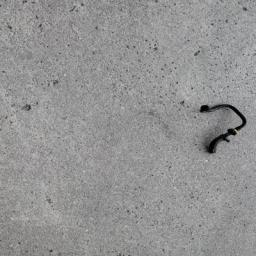FOD: (197, 101, 250, 156)
